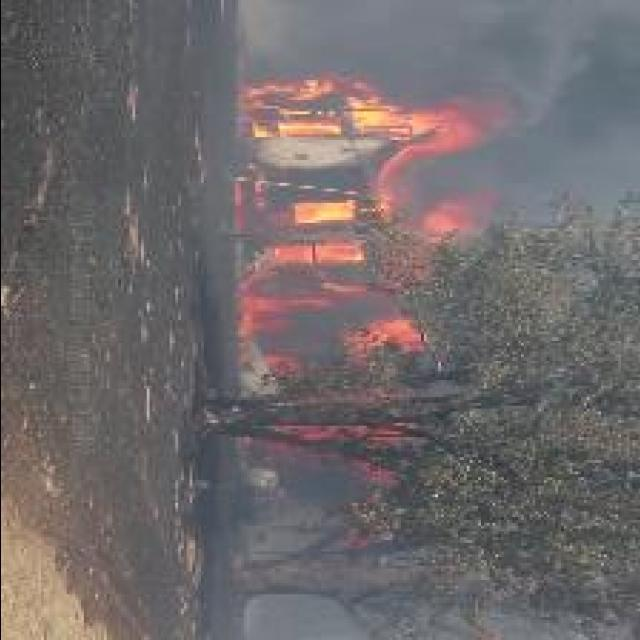Fire: (238, 78, 504, 550)
